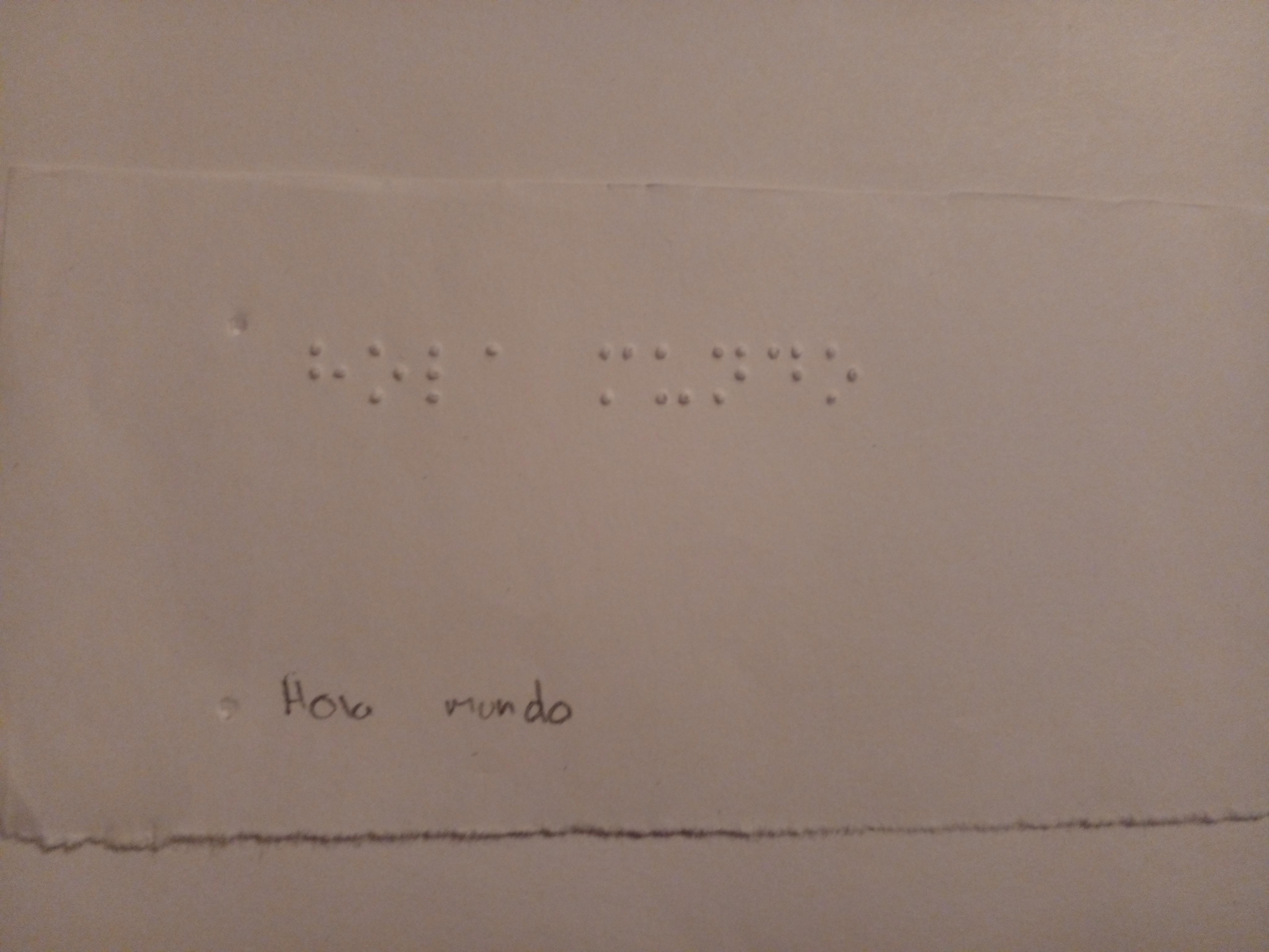a: (463, 332, 517, 377)
d: (762, 335, 812, 394)
h: (297, 325, 353, 400)
l: (420, 333, 454, 418)
m: (587, 339, 643, 408)
n: (705, 339, 754, 412)
o: (819, 330, 874, 415), (362, 332, 415, 412)
u: (649, 342, 696, 418)
